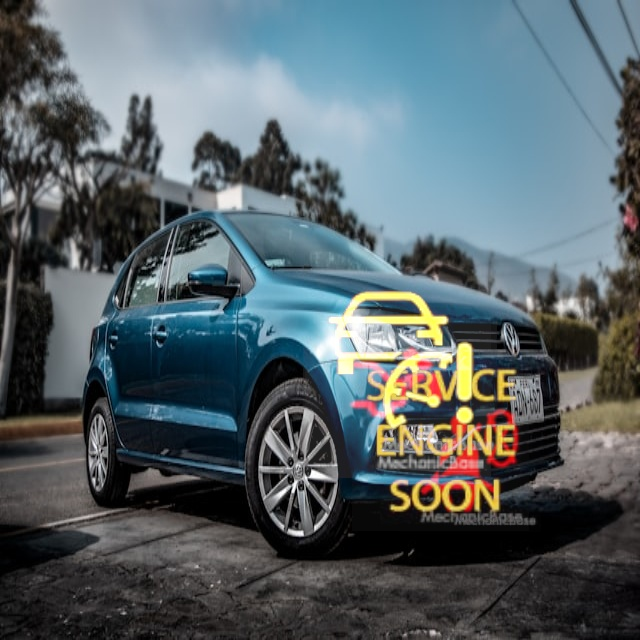symbol: (303, 264, 497, 458), (305, 292, 491, 478), (352, 354, 529, 531), (399, 390, 541, 532)
